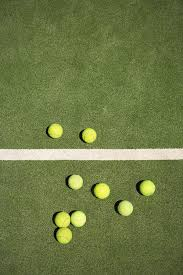tennis_ball: (92, 182, 111, 200), (54, 227, 73, 245), (54, 210, 72, 228), (47, 121, 63, 141), (80, 127, 97, 145), (138, 179, 155, 197), (116, 200, 134, 217), (66, 173, 84, 190), (70, 209, 86, 227)
